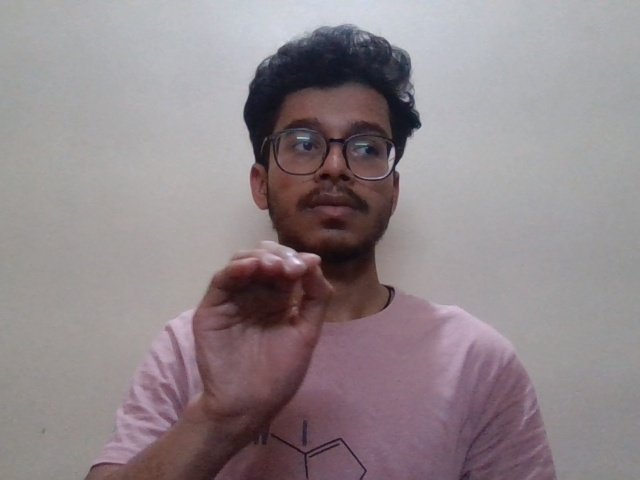sound: (187, 239, 347, 437)
